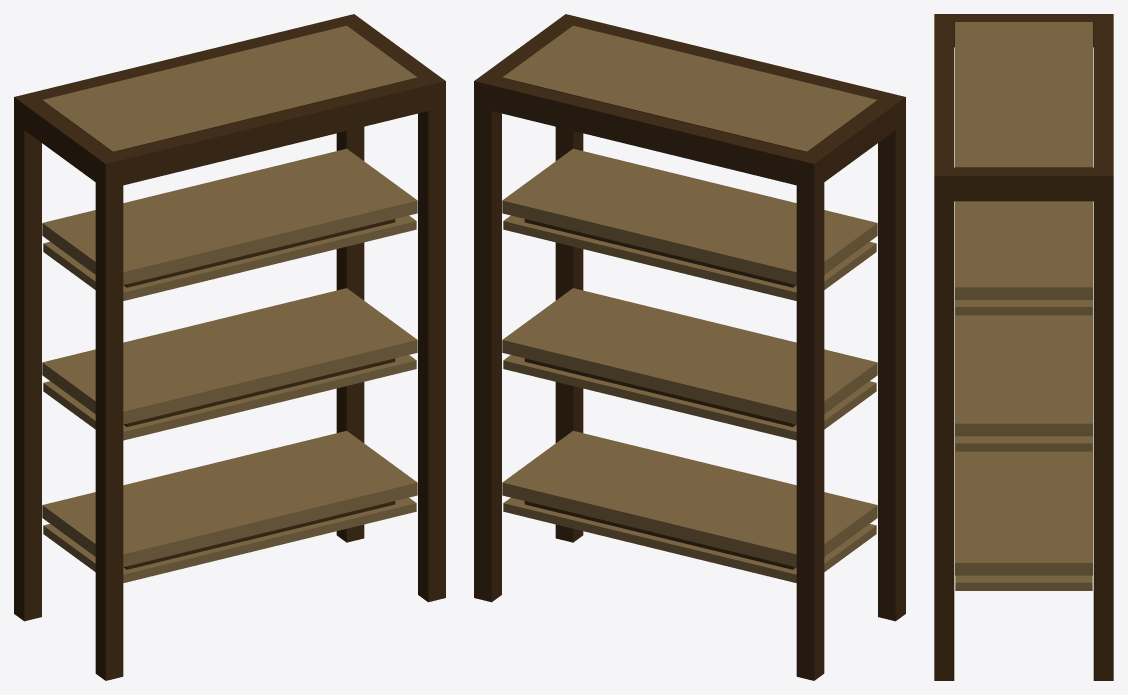
Rendered from CPI441_Fur_BookShelf_O2.fbx.
The picture shows the model from 3 angles, left to right: view 1: azimuth 30°, elevation 25°; view 2: azimuth 150°, elevation 25°; view 3: azimuth 270°, elevation 25°; orthographic projection. The views are drawn at different scales.
Parts seen in each view (by area): view 1: Cube; view 2: Cube; view 3: Cube.
Boxes of the visible parts, bbox=[...] form: Cube: bbox=[14, 14, 445, 680]; Cube: bbox=[474, 14, 905, 680]; Cube: bbox=[934, 14, 1113, 680].
Bounding box in the file's own units: 555 × 806 × 259.
